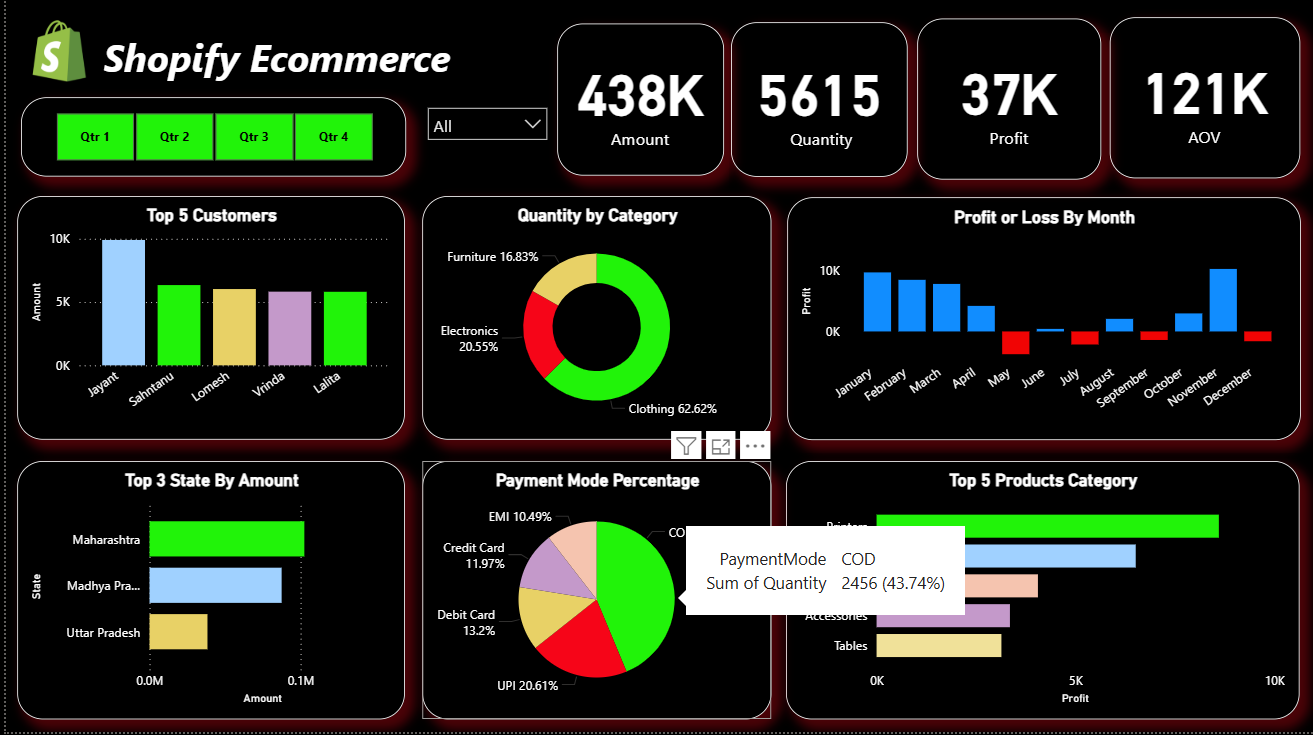

This screenshot's page, from the dashboard's own definition file:
{"tool":"powerbi","page":{"name":"Page 1","canvas":[1280,720],"ordinal":0},"visuals":[{"type":"image","box":[0,0,106.4,97.8],"z":0},{"type":"textbox","box":[90.5,29.3,397.4,68.5],"z":1000},{"type":"columnChart","title":"Profit or Loss By Month","fields":{"Category":["Orders.Order Date.Variation.Date Hierarchy.Month"],"Y":["Products.Profit"]},"box":[763.7,196.3,502,237.5],"z":2000},{"type":"barChart","title":"Top 5 Products Category","fields":{"Category":["Products.Sub-Category"],"Y":["Products.Profit"]},"box":[763.2,454.5,502.1,252.5],"z":3000},{"type":"donutChart","title":"Quantity by Category","fields":{"Category":["Products.Category"],"Y":["Products.Quantity"]},"box":[406.9,196.2,341.9,238.1],"z":4000},{"type":"pieChart","title":"Payment Mode Percentage","fields":{"Category":["Products.PaymentMode"],"Y":["Products.Quantity"]},"box":[406.9,454.5,341.9,252.5],"z":5000},{"type":"barChart","title":"Top 3 State By Amount ","fields":{"Category":["Orders.State"],"Y":["Products.Amount"]},"box":[11.5,454.5,379.4,252.5],"z":6000},{"type":"columnChart","title":"Top 5 Customers","fields":{"Category":["Orders.CustomerName"],"Y":["Products.Amount"]},"box":[11.5,196.2,379.4,238.1],"z":7000},{"type":"card","fields":{"Values":["Products.Amount"]},"box":[539.6,27.4,163,148.6],"z":8000},{"type":"card","fields":{"Values":["Products.Quantity"]},"box":[709.8,26,173.1,151.5],"z":9000},{"type":"card","fields":{"Values":["Products.Profit"]},"box":[891.6,21.6,180.3,157.3],"z":10000},{"type":"card","fields":{"Values":["Products.AOV"]},"box":[1079.2,20.2,186.1,157.3],"z":11000},{"type":"slicer","fields":{"Values":["Orders.Order Date.Variation.Date Hierarchy.Quarter"]},"box":[14.4,99.6,376.6,77.9],"z":12000},{"type":"slicer","fields":{"Values":["Orders.State"]},"box":[402.5,99.6,137.1,79.4],"z":12001}]}

Visuals, with their boxes in screenshot pixels (x1, y1, x2, y2), scaled from the page's 1280x720 canvas onto the 1313x735 screenshot:
image: [x1=0, y1=0, x2=109, y2=100]
textbox: [x1=93, y1=30, x2=500, y2=100]
"Profit or Loss By Month" columnChart: [x1=783, y1=200, x2=1298, y2=443]
"Top 5 Products Category" barChart: [x1=783, y1=464, x2=1298, y2=722]
"Quantity by Category" donutChart: [x1=417, y1=200, x2=768, y2=443]
"Payment Mode Percentage" pieChart: [x1=417, y1=464, x2=768, y2=722]
"Top 3 State By Amount " barChart: [x1=12, y1=464, x2=401, y2=722]
"Top 5 Customers" columnChart: [x1=12, y1=200, x2=401, y2=443]
card - Products.Amount: [x1=554, y1=28, x2=721, y2=180]
card - Products.Quantity: [x1=728, y1=27, x2=906, y2=181]
card - Products.Profit: [x1=915, y1=22, x2=1100, y2=183]
card - Products.AOV: [x1=1107, y1=21, x2=1298, y2=181]
slicer - Orders.Order Date.Variation.Date Hierarchy.Quarter: [x1=15, y1=102, x2=401, y2=181]
slicer - Orders.State: [x1=413, y1=102, x2=554, y2=183]
